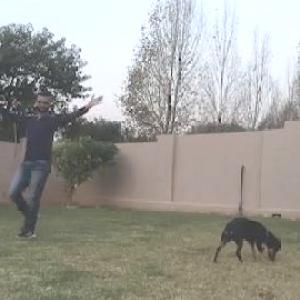takeoff: (0, 87, 124, 244)
